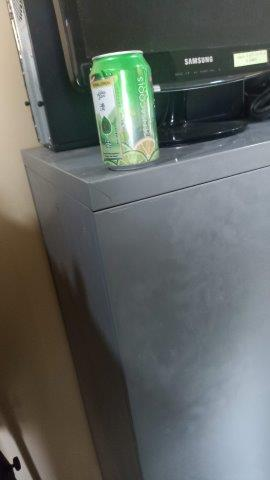kaleng: (89, 49, 160, 169)
